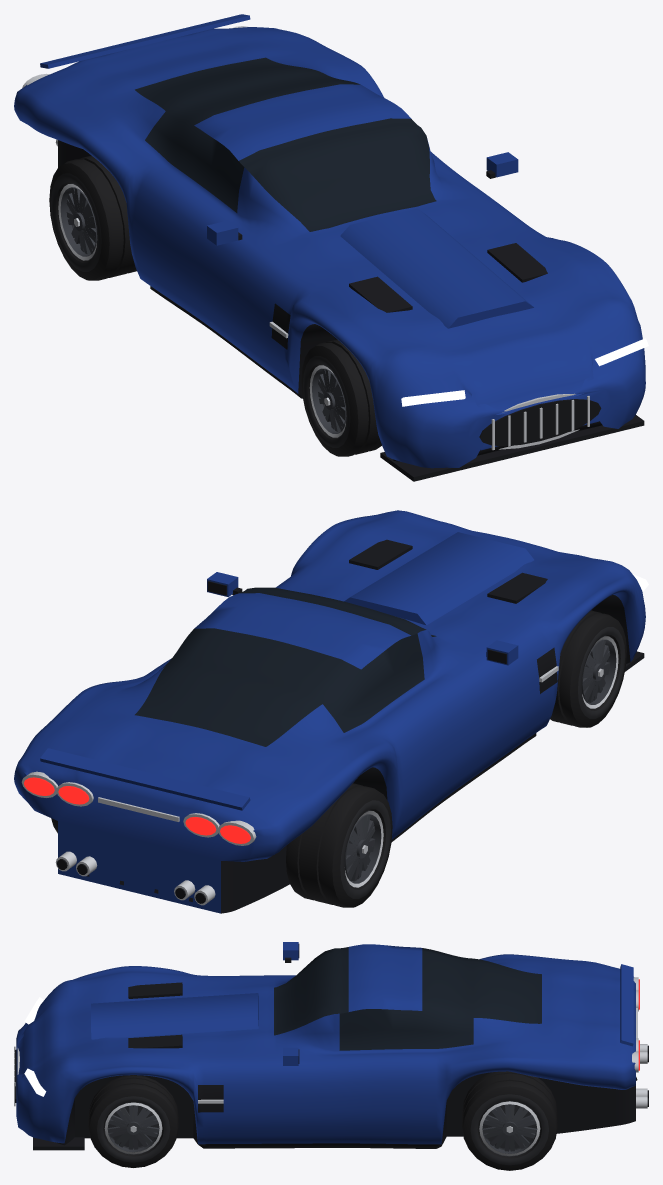
File: aurora.glb
3 views of the same model, one above another, from view 1: azimuth 30°, elevation 25°; view 2: azimuth 150°, elevation 25°; view 3: azimuth 270°, elevation 25° (orthographic). The views are drawn at different scales.
Visible parts, largest first — view 1: body, wheel_RR, wheel_FR; view 2: body, wheel_RR, wheel_FR; view 3: body, wheel_RL, wheel_FL.
Boxes of the visible parts, left/top/right/bottom form: body: left=14, top=14, right=648, bottom=481; wheel_RR: left=49, top=155, right=136, bottom=280; wheel_FR: left=301, top=339, right=381, bottom=456; body: left=14, top=510, right=648, bottom=913; wheel_RR: left=286, top=783, right=392, bottom=907; wheel_FR: left=550, top=610, right=626, bottom=727; body: left=14, top=942, right=648, bottom=1150; wheel_RL: left=462, top=1071, right=557, bottom=1170; wheel_FL: left=88, top=1075, right=178, bottom=1167.
Size of the model in its own units: 2.09 by 1.27 by 4.93.
